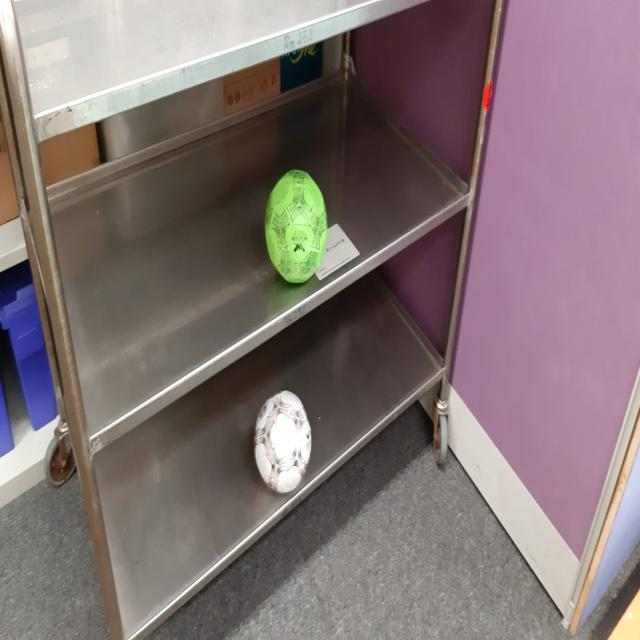ball: (264, 167, 328, 286), (254, 390, 312, 494)
